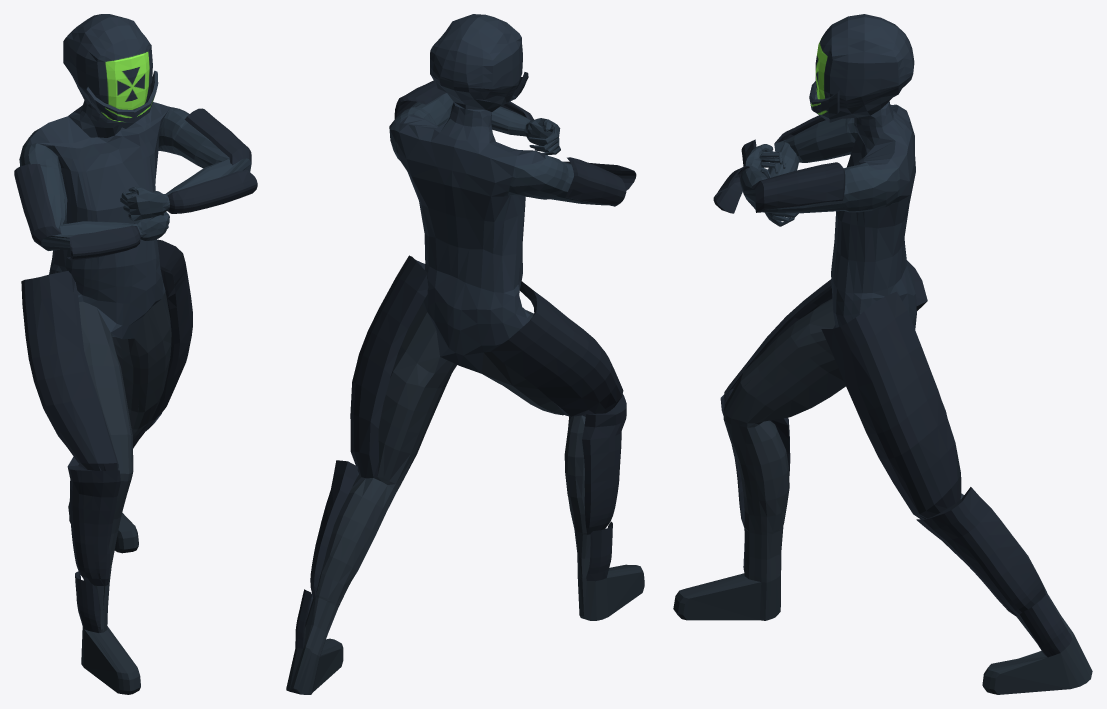
File: Bastion_WR_000001.obj
3 renders of one model, left to right at view 1: azimuth 30°, elevation 25°; view 2: azimuth 150°, elevation 25°; view 3: azimuth 270°, elevation 25°, orthographic. The views are drawn at different scales.
Parts seen in each view (by area): view 1: Cube.002; view 2: Cube.002; view 3: Cube.002.
Part boxes in pixels (box(x1,y1,x2,y2)): Cube.002: box(14, 14, 257, 694); Cube.002: box(286, 14, 644, 694); Cube.002: box(673, 14, 1092, 694).
Bounding box in the file's own units: 1.31 × 3.59 × 2.16.
